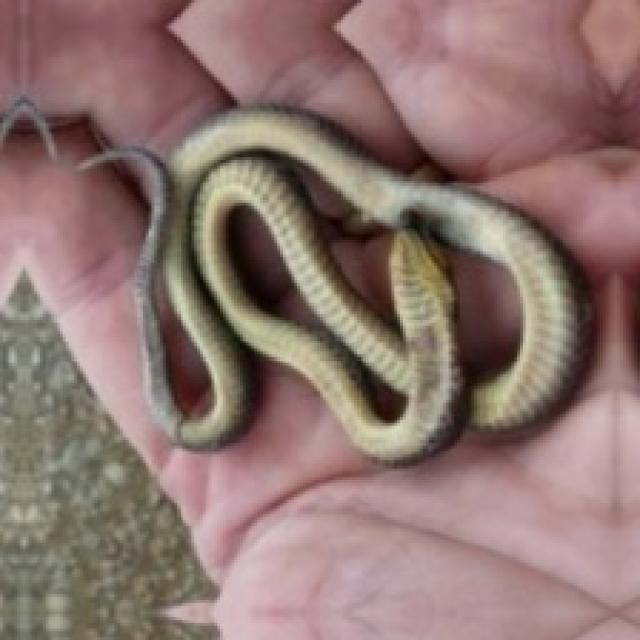gunthers philippine shrub snake: (80, 106, 589, 460), (294, 163, 397, 326), (437, 240, 523, 386), (226, 206, 320, 329)
